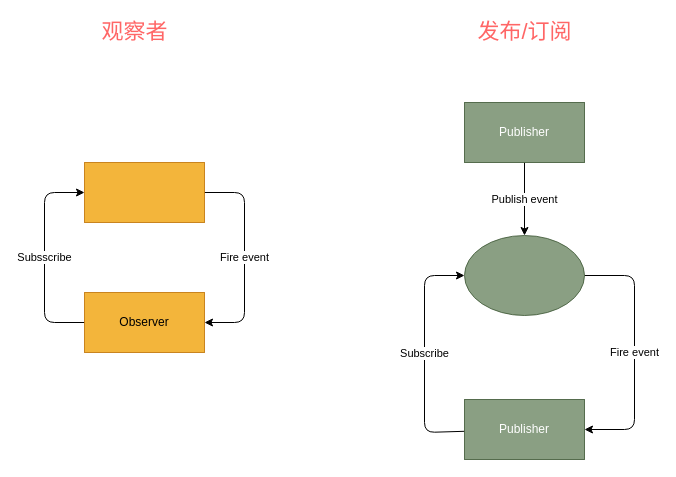
This 676x477 diagram has some shape labels left out. Here are the shapes that lost their labels. From the top down, the centre of each, then its label:
point 144,192: Subject
point 524,275: Event Channel
